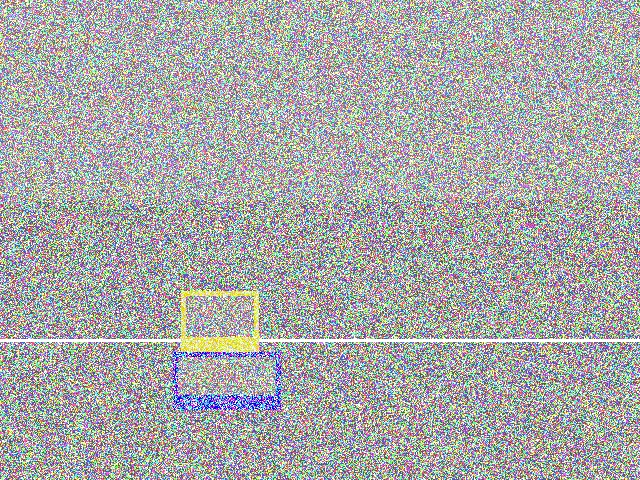bus: (73, 129, 210, 210)
car: (473, 314, 630, 415)
motorcycle: (170, 210, 300, 286)
